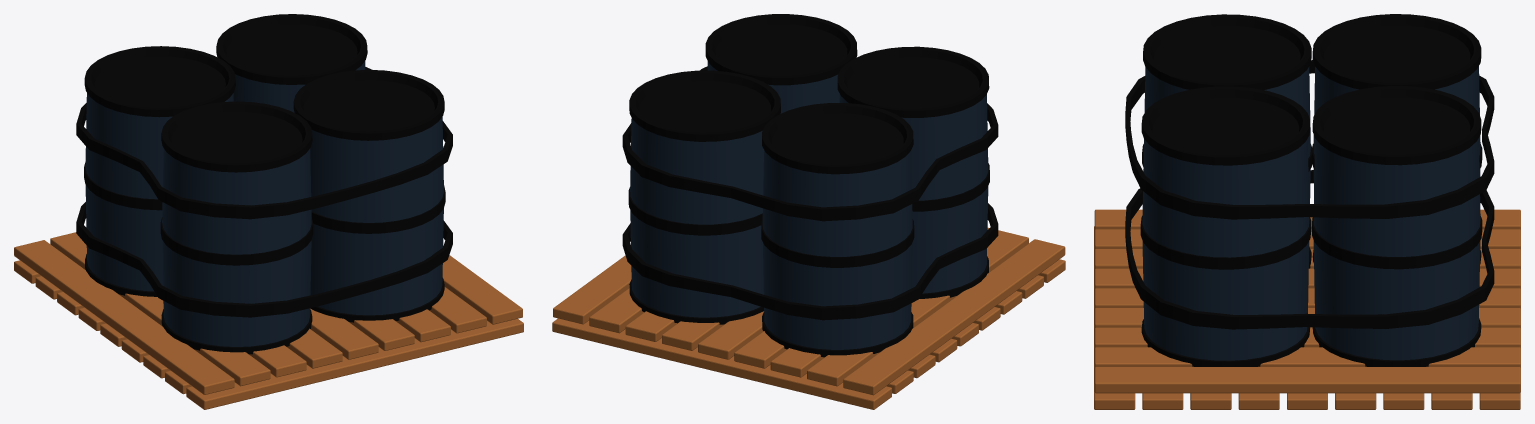
File: barrelPallet.glb
3 views of the same model, side by side, from view 1: azimuth 30°, elevation 25°; view 2: azimuth 150°, elevation 25°; view 3: azimuth 270°, elevation 25° (orthographic). The views are drawn at different scales.
Parts seen in each view (by area): view 1: Cylinder.067, Cylinder.069, pallet.002, Cylinder.066, Cylinder.068, Cylinder.071, Cylinder.070; view 2: Cylinder.066, Cylinder.068, pallet.002, Cylinder.067, Cylinder.069, Cylinder.071, Cylinder.070; view 3: Cylinder.068, Cylinder.069, pallet.002, Cylinder.067, Cylinder.066, Cylinder.071, Cylinder.070.
Part boxes in pixels (x1,y1,x2,y2): Cylinder.067: (160,101,313,354); Cylinder.069: (293,69,445,322); pallet.002: (14,232,523,409); Cylinder.066: (84,46,235,296); Cylinder.068: (216,14,367,112); Cylinder.071: (76,67,452,219); Cylinder.070: (76,202,452,317); Cylinder.066: (761,103,914,357); Cylinder.068: (628,70,780,324); pallet.002: (552,227,1065,409); Cylinder.067: (837,46,989,298); Cylinder.069: (705,14,857,113); Cylinder.071: (622,66,998,221); Cylinder.070: (622,203,998,320); Cylinder.068: (1312,86,1482,366); Cylinder.069: (1140,86,1311,366); pallet.002: (1094,209,1520,409); Cylinder.067: (1142,14,1312,268); Cylinder.066: (1312,14,1482,264); Cylinder.071: (1125,60,1494,219); Cylinder.070: (1125,170,1494,329).
Size of the model in its own units: 0.6512 by 0.4105 by 0.6725.
